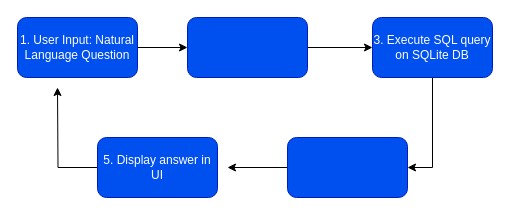
Some shapes in this 510 by 215 pixel diagram are drawn without their labels. Here are the shapes that lost their labels. From the top down, the centre of each, then its label:
At point 247,47: "2. LLM generates SQL query".
At point 347,167: "4. Process and summarize results".
